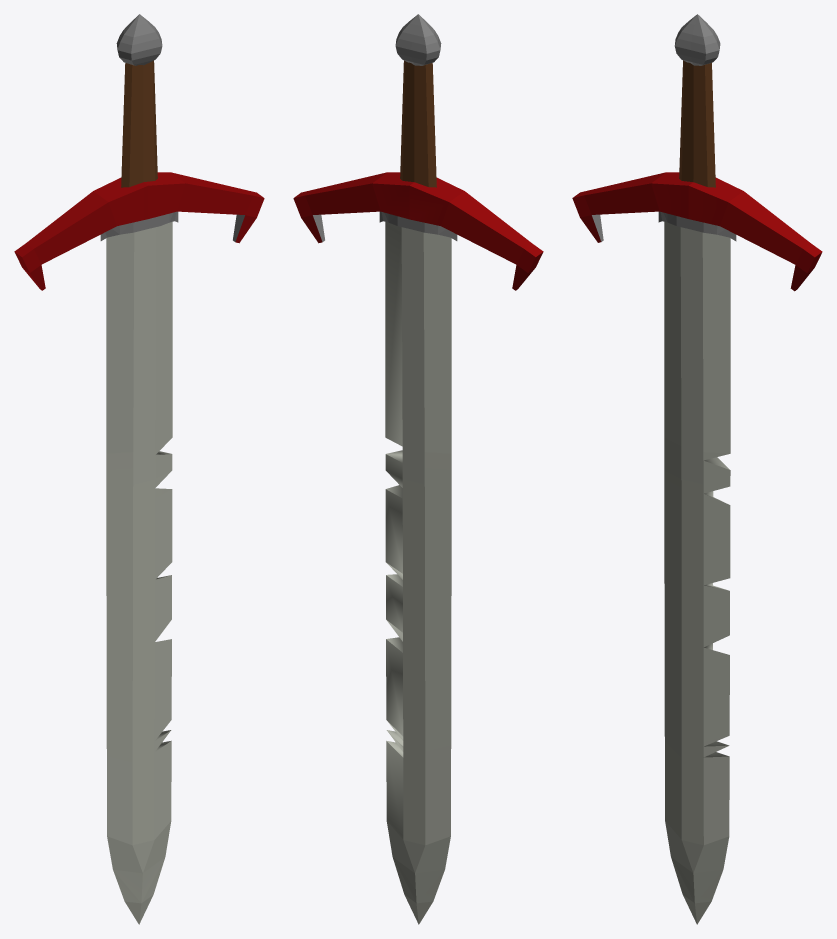
Rendered from Sword_1.fbx.
3 views of the same model, side by side, from view 1: azimuth 30°, elevation 25°; view 2: azimuth 150°, elevation 25°; view 3: azimuth 330°, elevation 25° (orthographic).
Visible parts, largest first — view 1: Sword 1.019; view 2: Sword 1.019; view 3: Sword 1.019.
Boxes of the visible parts, x1=… form: Sword 1.019: x1=14, y1=14, x2=264, y2=924; Sword 1.019: x1=293, y1=14, x2=543, y2=924; Sword 1.019: x1=572, y1=14, x2=822, y2=924.
Size of the model in its own units: 26.93 by 96.66 by 3.38.
